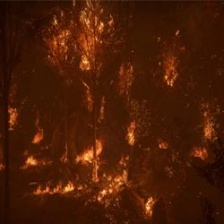fire: (36, 171, 145, 199), (79, 11, 106, 71), (79, 144, 107, 167)
